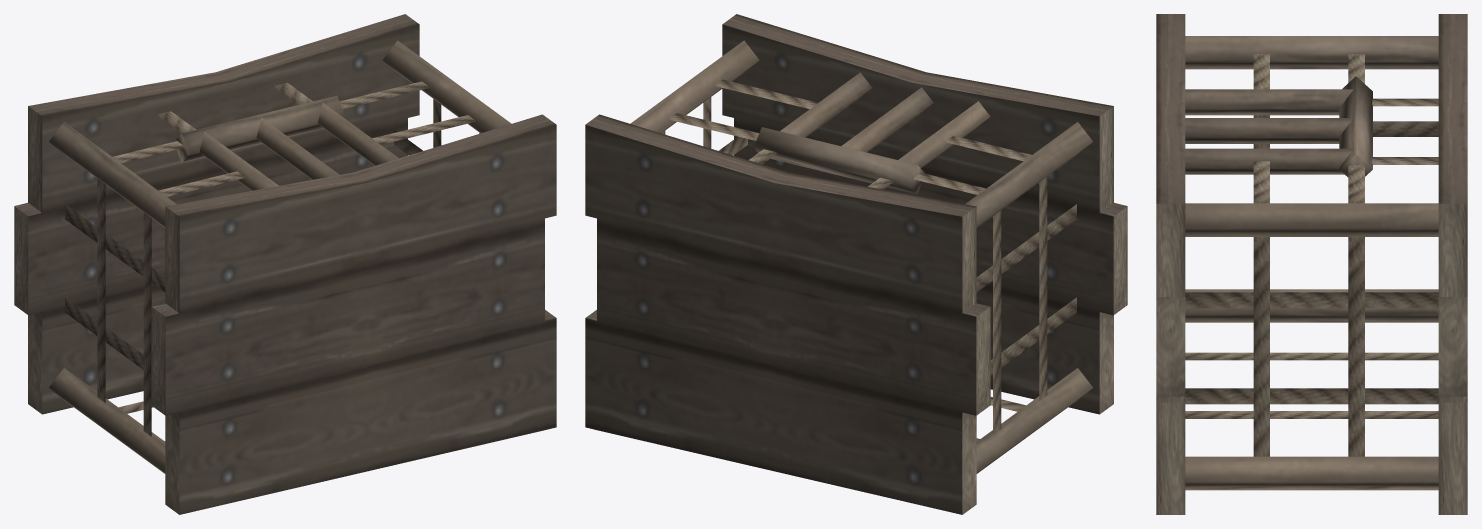
The model's file is Crab_Trap_A.fbx.
The picture shows the model from 3 angles, left to right: view 1: azimuth 30°, elevation 25°; view 2: azimuth 150°, elevation 25°; view 3: azimuth 270°, elevation 25°; orthographic projection. The views are drawn at different scales.
Visible parts, largest first — view 1: Crab_Trap_A; view 2: Crab_Trap_A; view 3: Crab_Trap_A.
Boxes of the visible parts, left/top/right/bottom form: Crab_Trap_A: left=14, top=14, right=556, bottom=514; Crab_Trap_A: left=585, top=14, right=1127, bottom=514; Crab_Trap_A: left=1156, top=14, right=1467, bottom=514.
Size of the model in its own units: 0.8049 by 0.5949 by 0.5395.
